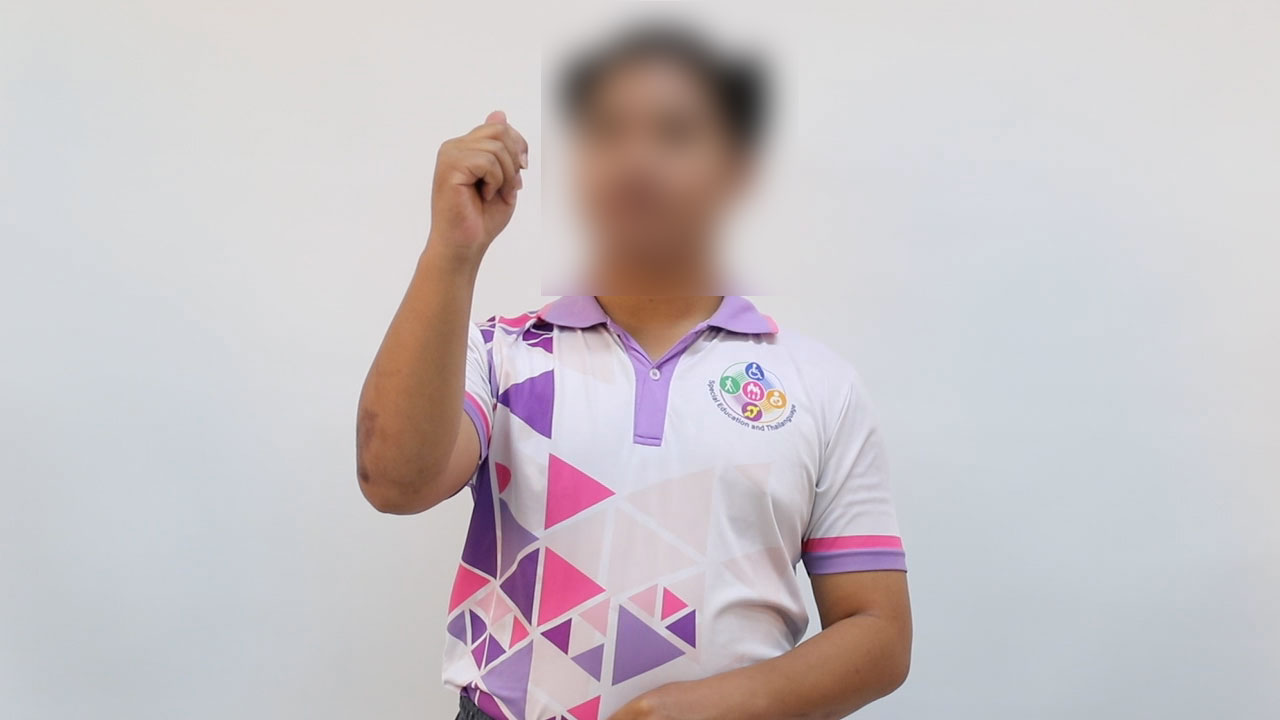tor: (402, 89, 559, 276)
